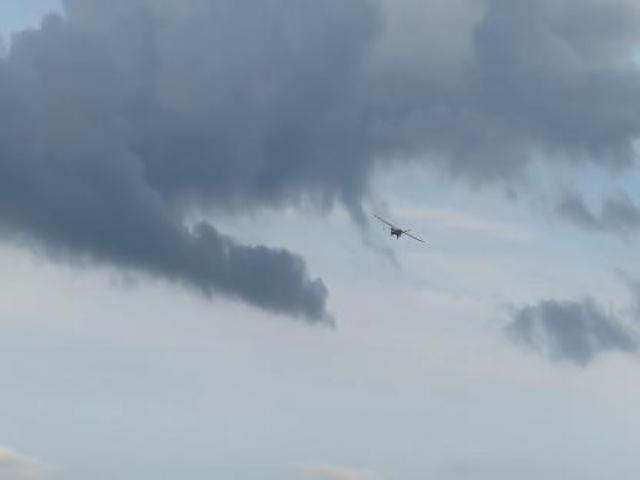uav: (366, 206, 428, 254)
